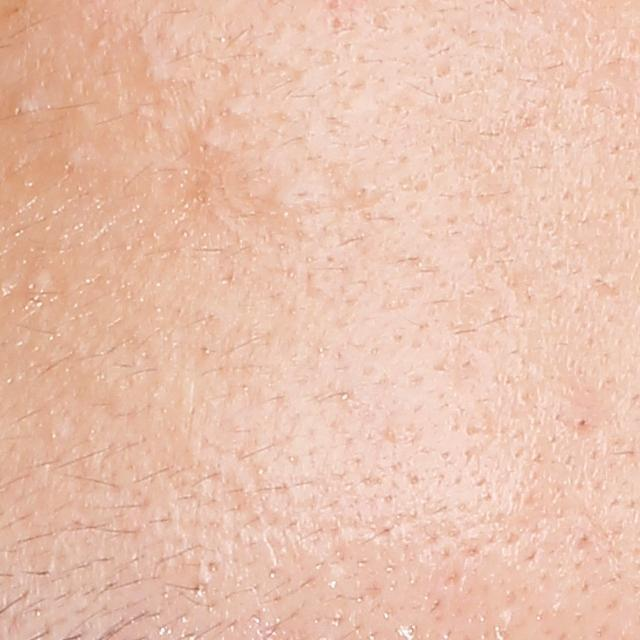comedo: (253, 171, 315, 234), (177, 121, 233, 179), (3, 89, 45, 128), (135, 51, 172, 90), (57, 142, 87, 176), (349, 176, 377, 204)
